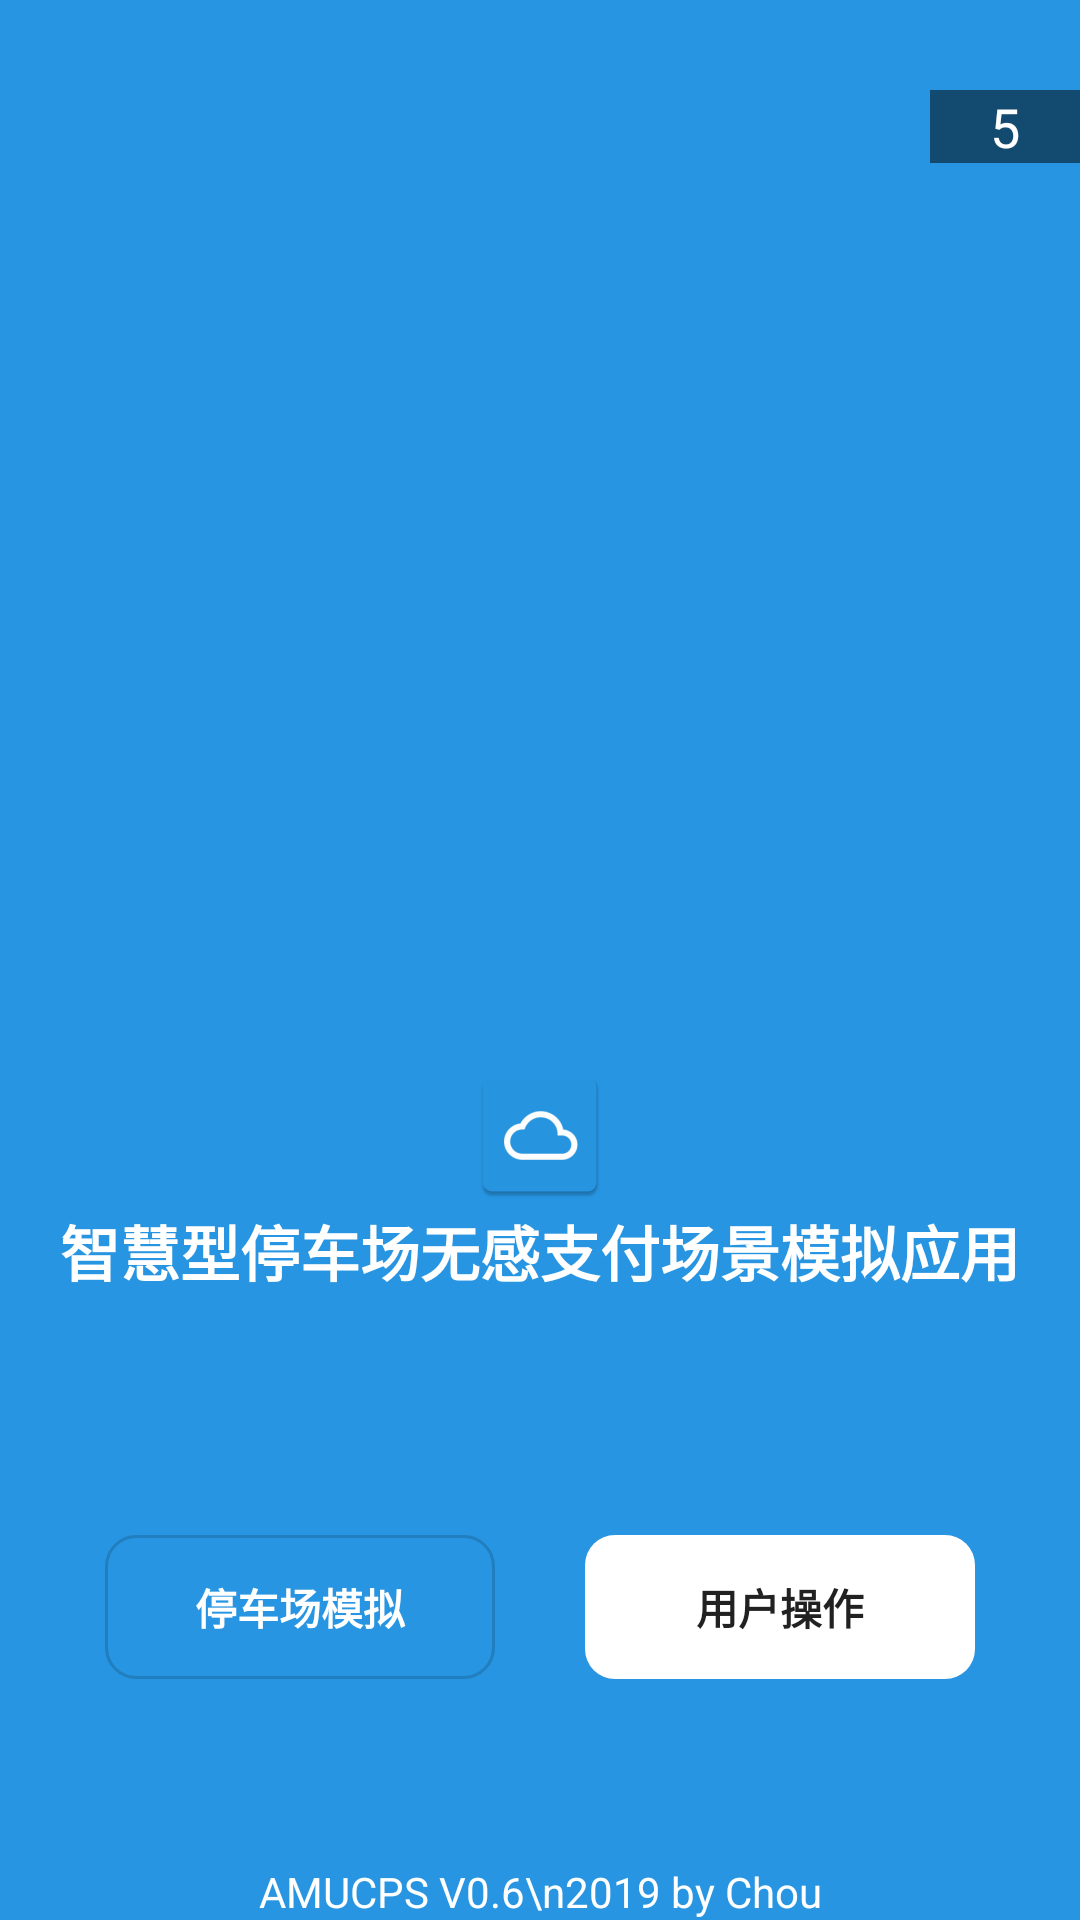

Icon click points for this 1080x1920 phone screenshot, format (x=x, y=y):
app: (x=540, y=1139)
